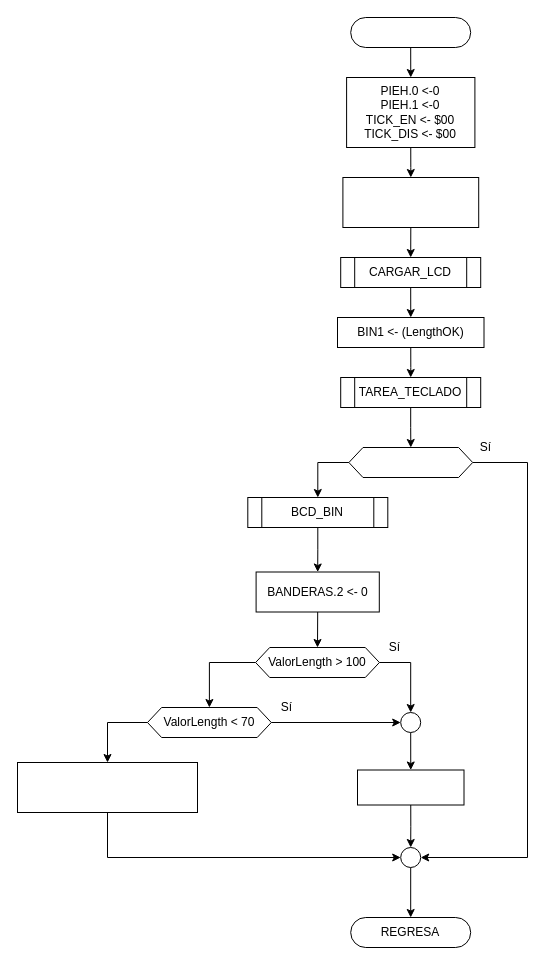
This 553x965 diagram has some shape labels left out. The centre of each missing label's shape, as x and y in pixels:
"BANDERAS.2 = 1" belongs at [410,462].
"CONFIG" belongs at [410,32].
"J <- C_MSG1 K <- C_MSG2 LEDS <- 1" belongs at [410,202].
"LengthOK <- (ValorLength) BIN1 <- (LengthOK)" belongs at [107,787].
"ValorLength <- 0" belongs at [410,787].
